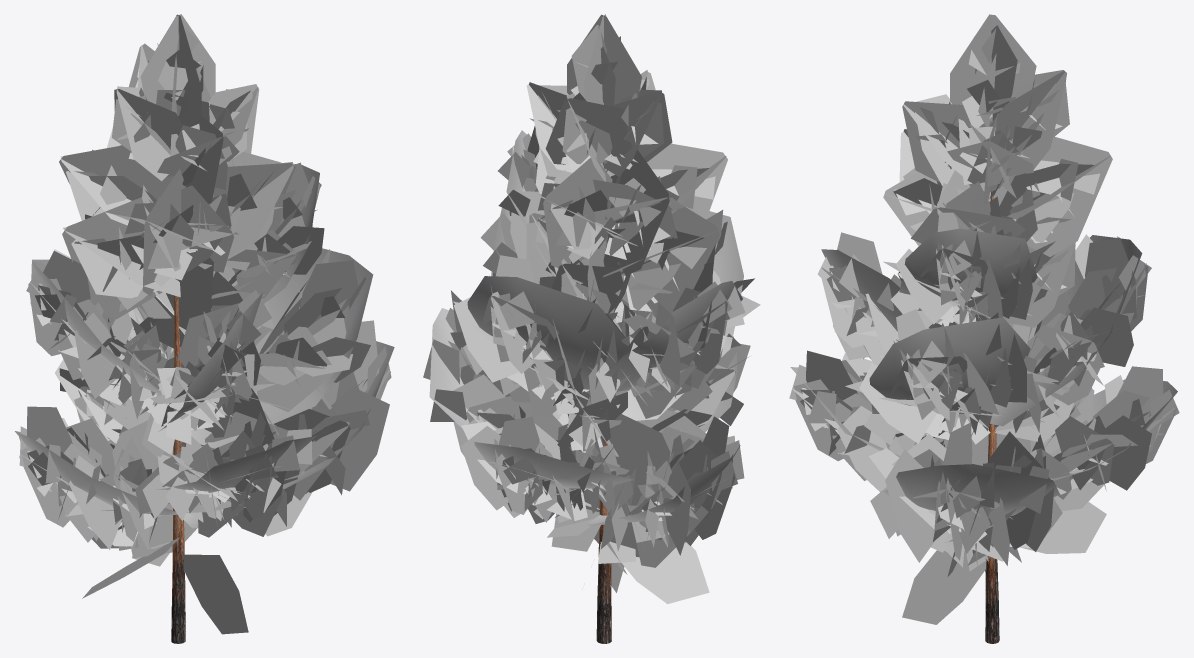
File: pine_03.fbx
3 renders of one model, left to right at view 1: azimuth 30°, elevation 25°; view 2: azimuth 150°, elevation 25°; view 3: azimuth 270°, elevation 25°, orthographic.
Parts seen in each view (by area): view 1: Cylinder_1; view 2: Cylinder_1; view 3: Cylinder_1.
Part boxes in pixels (x1,y1,x2,y2): Cylinder_1: (15, 14, 394, 643); Cylinder_1: (423, 14, 760, 643); Cylinder_1: (789, 14, 1179, 643).
Size of the model in its own units: 837 by 1477 by 834.
